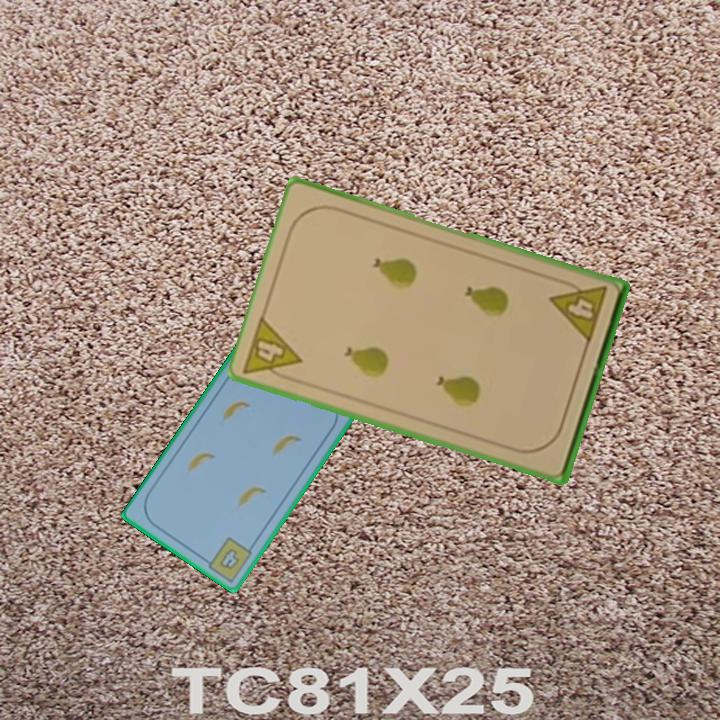4b: (200, 534, 255, 583)
4p: (240, 313, 305, 387), (547, 275, 609, 346)
